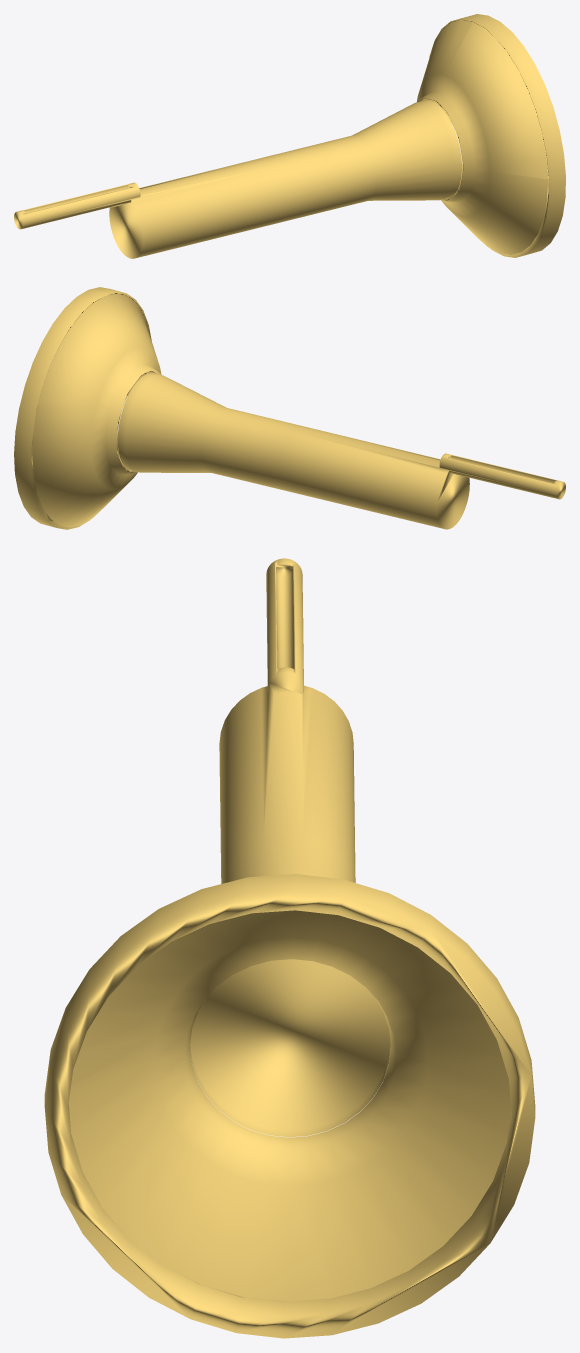
File: Artefact_Grenade_Launcher.fbx
3 views of the same model, one above another, from view 1: azimuth 30°, elevation 25°; view 2: azimuth 150°, elevation 25°; view 3: azimuth 270°, elevation 25° (orthographic). The views are drawn at different scales.
Parts seen in each view (by area): view 1: Artefact_grenade_launcher; view 2: Artefact_grenade_launcher; view 3: Artefact_grenade_launcher.
Part boxes in pixels (bbox=[...]): Artefact_grenade_launcher: bbox=[14, 14, 565, 258]; Artefact_grenade_launcher: bbox=[14, 287, 565, 529]; Artefact_grenade_launcher: bbox=[44, 558, 535, 1338].
Bounding box in the file's own units: 190 × 82.7 × 82.56.
